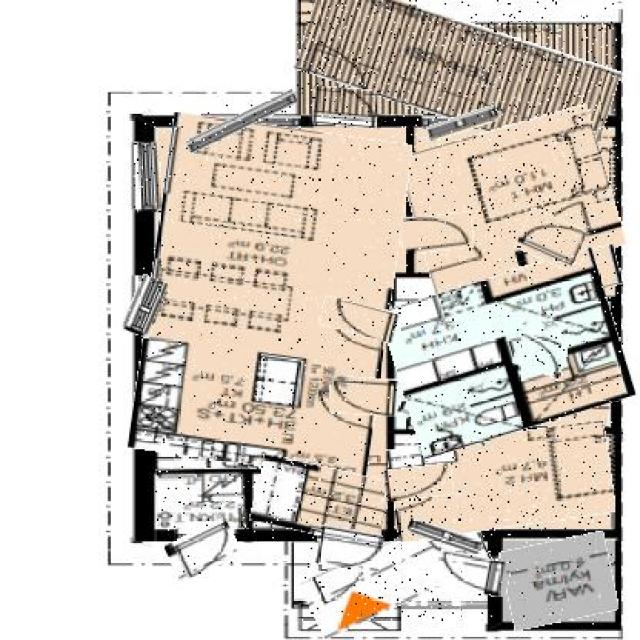door: (168, 523, 238, 575), (517, 214, 583, 266), (435, 552, 511, 594), (320, 300, 402, 338), (401, 214, 474, 252), (317, 528, 383, 570), (329, 377, 398, 417), (314, 88, 377, 128), (385, 465, 452, 500), (514, 338, 566, 376)
window: (183, 102, 299, 140), (126, 275, 165, 337), (406, 523, 482, 549), (134, 142, 160, 212), (426, 111, 499, 135)
zone: (140, 120, 402, 474), (297, 0, 617, 138), (388, 263, 628, 445), (406, 116, 619, 286), (391, 428, 612, 535), (302, 523, 492, 622), (252, 460, 390, 542), (503, 536, 615, 626), (392, 356, 503, 438), (508, 251, 620, 303), (156, 469, 250, 529)
